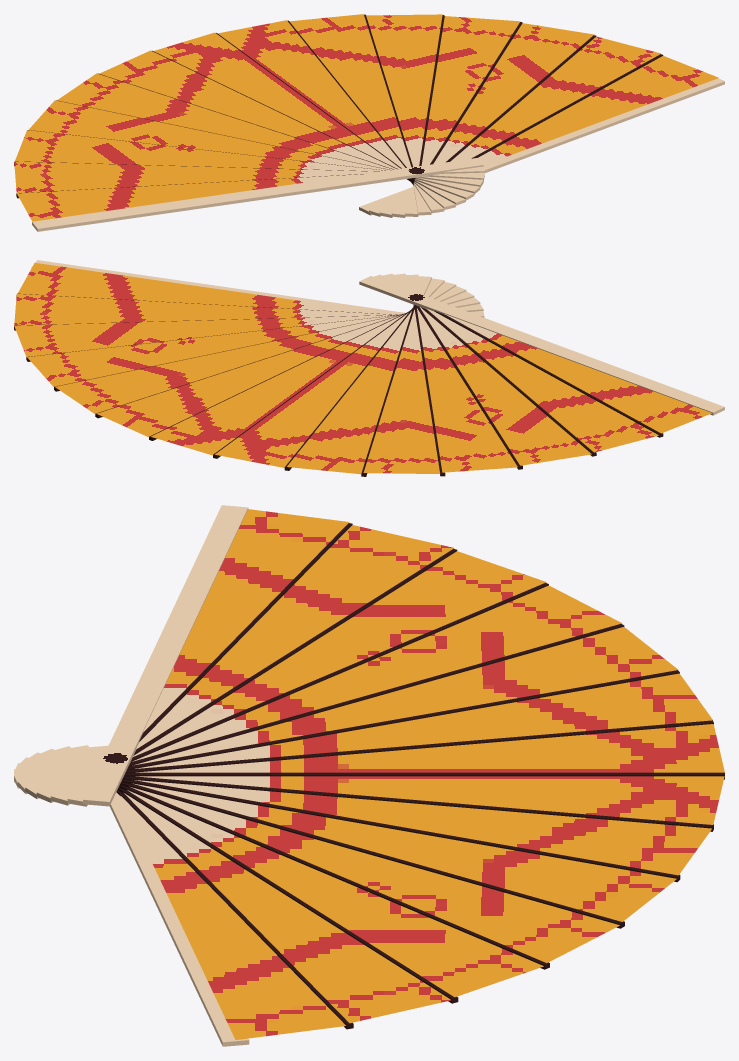
The model's file is sen_fan.glb.
3 views of the same model, one above another, from view 1: azimuth 30°, elevation 25°; view 2: azimuth 150°, elevation 25°; view 3: azimuth 270°, elevation 25° (orthographic). The views are drawn at different scales.
Parts seen in each view (by area): view 1: Plane.001; view 2: Plane.001; view 3: Plane.001.
Boxes of the visible parts, bbox=[...] form: Plane.001: bbox=[14, 14, 724, 231]; Plane.001: bbox=[14, 260, 724, 476]; Plane.001: bbox=[14, 505, 724, 1046].
Size of the model in its own units: 37.43 by 1.26 by 22.22.
1 material, 1 textured.
